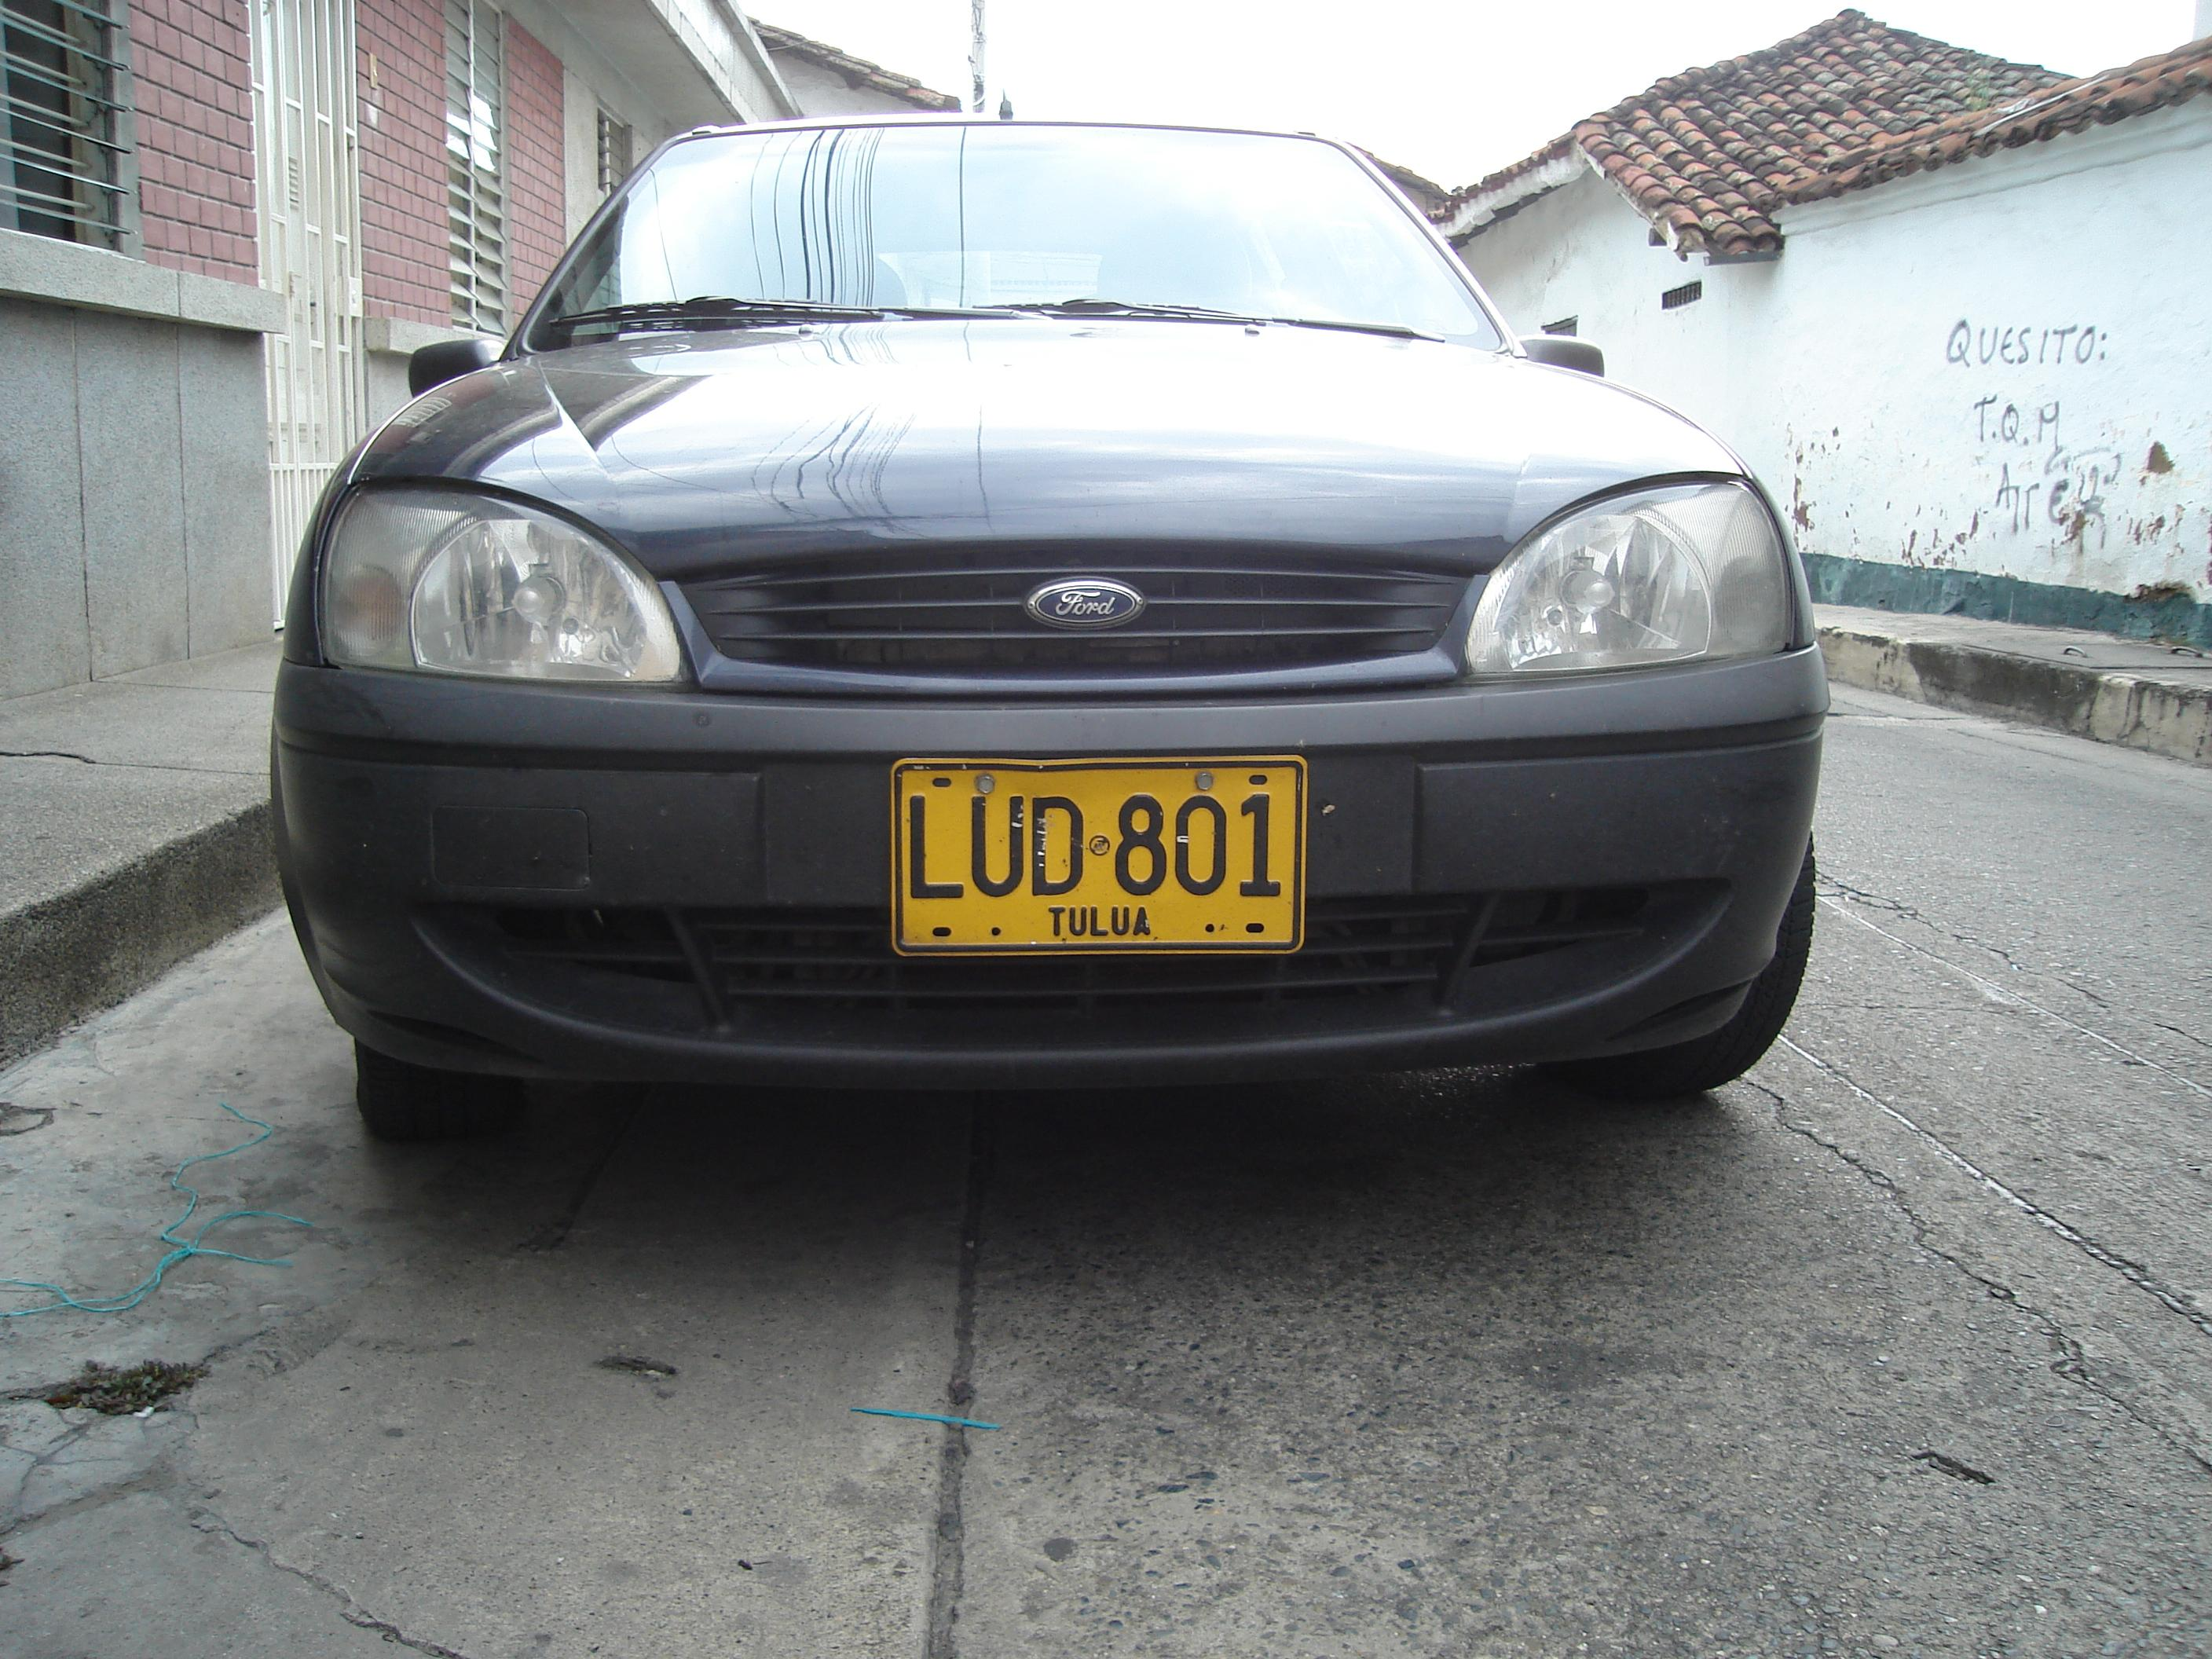placas: (880, 735, 1317, 971)
